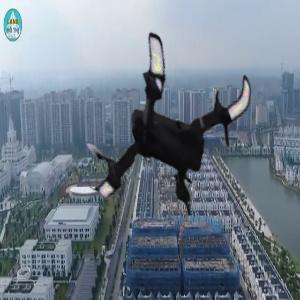drone: (60, 32, 270, 242)
